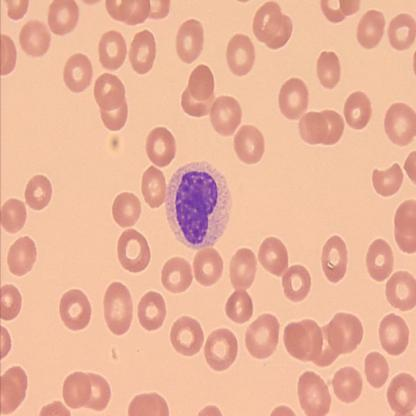Metamyelocyte: (164, 158, 233, 250)
